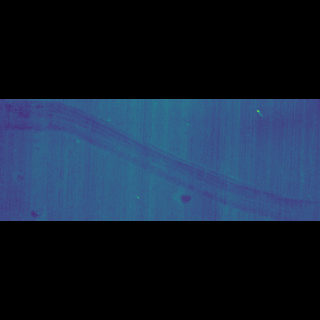Loch: (2, 135, 309, 183)
